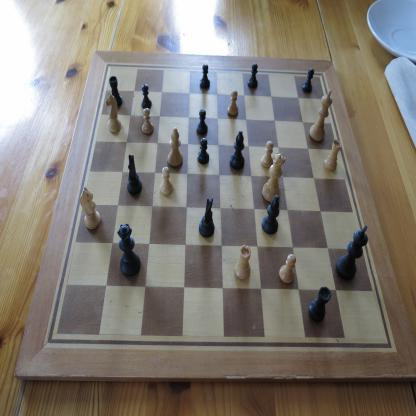black-bishop: (261, 195, 280, 235), (229, 130, 246, 171)
black-king: (336, 224, 368, 282)
black-knight: (198, 197, 215, 239), (127, 154, 142, 196)
black-pawn: (196, 138, 209, 166), (301, 68, 315, 94), (196, 108, 208, 136), (198, 63, 210, 90), (247, 63, 258, 90), (141, 83, 152, 110)
black-queen: (117, 222, 141, 278)
black-rook: (308, 285, 332, 323), (108, 75, 123, 107)
white-bishop: (167, 127, 183, 168)
white-king: (309, 88, 333, 143)
white-knight: (80, 186, 102, 231), (104, 91, 122, 133)
white-pawn: (278, 253, 297, 285), (260, 140, 274, 169), (160, 166, 173, 196), (227, 89, 239, 117), (142, 108, 154, 136)
white-queen: (262, 151, 286, 204)
white-rook: (233, 244, 252, 281), (323, 138, 342, 172)
